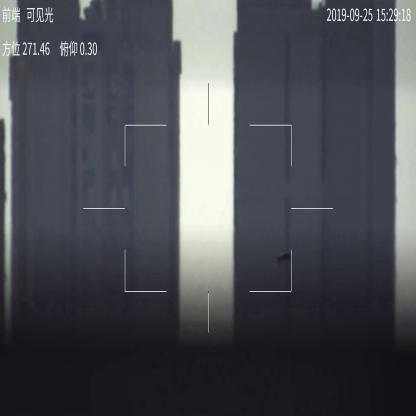uav: (277, 249, 293, 264)
